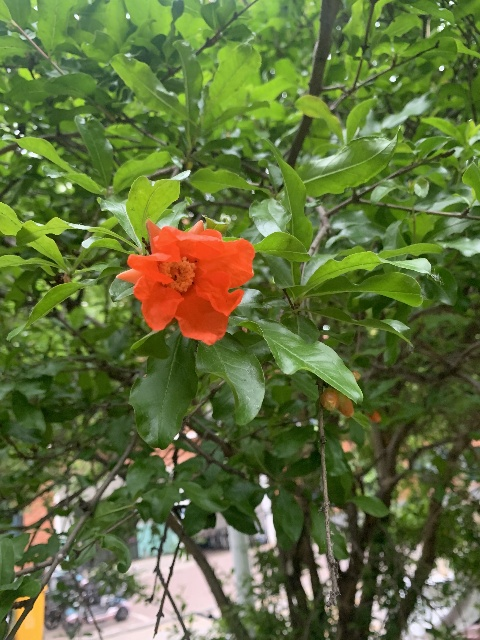bud: (319, 388, 339, 410), (337, 395, 354, 417), (350, 370, 360, 381)
flower: (116, 217, 254, 345)
